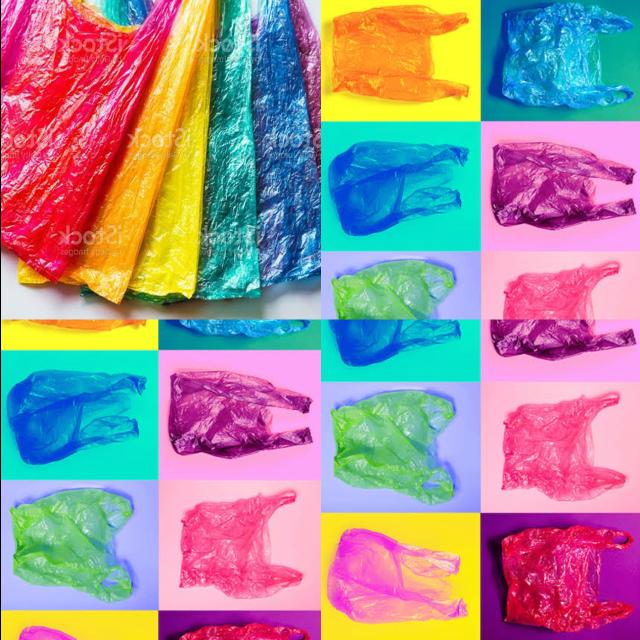plastik: (0, 0, 181, 282), (60, 0, 213, 303), (127, 21, 213, 303), (250, 0, 319, 287), (193, 0, 259, 299), (331, 390, 454, 505), (501, 525, 632, 632), (10, 489, 132, 603), (501, 2, 632, 108), (326, 528, 467, 624), (328, 141, 468, 236), (331, 5, 468, 102), (179, 491, 302, 599), (501, 394, 625, 501), (7, 370, 146, 465), (167, 371, 311, 459), (491, 143, 635, 230), (503, 263, 618, 326), (332, 260, 454, 319), (329, 319, 460, 366), (489, 319, 635, 361), (288, 0, 320, 177)
